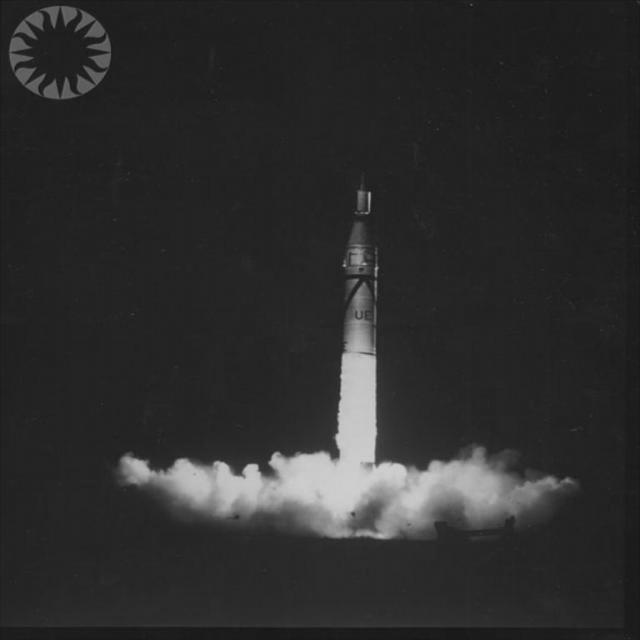missile: (346, 166, 379, 362)
